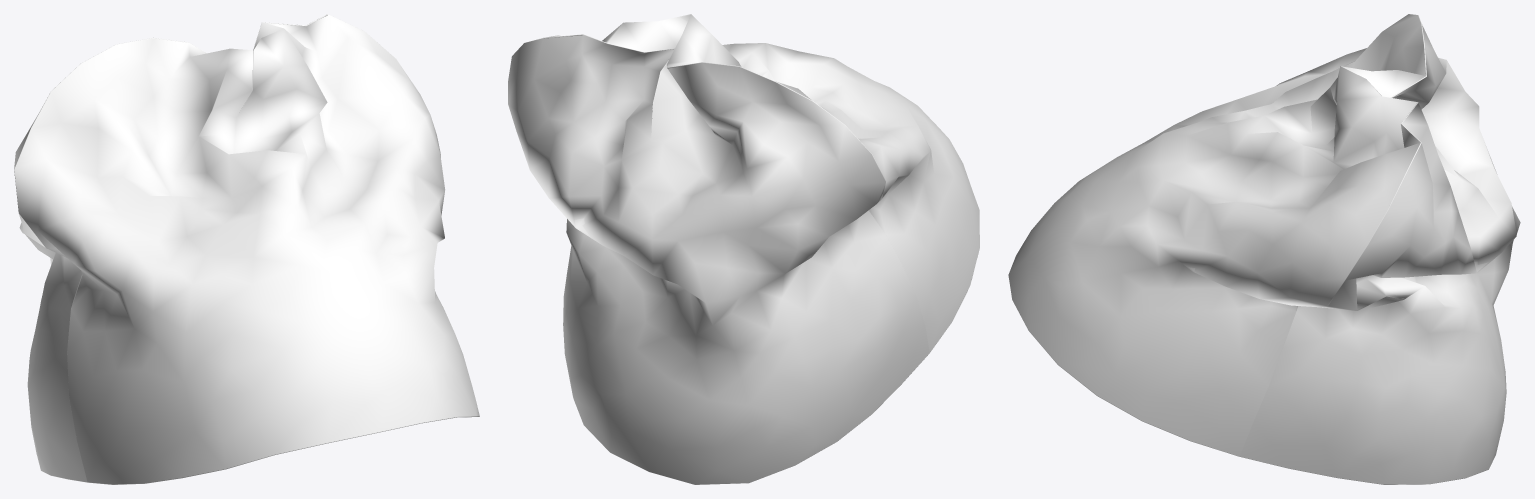
The model's file is shapka.glb.
3 views of the same model, side by side, from view 1: azimuth 30°, elevation 25°; view 2: azimuth 150°, elevation 25°; view 3: azimuth 270°, elevation 25° (orthographic). The views are drawn at different scales.
Parts seen in each view (by area): view 1: shapka; view 2: shapka; view 3: shapka.
Part boxes in pixels (x1,y1,x2,y2): shapka: [14, 14, 479, 484]; shapka: [508, 14, 979, 484]; shapka: [1008, 14, 1520, 484].
Size of the model in its own units: 2.02 by 2.02 by 2.29.
Materials: 1 (1 with a texture image).
